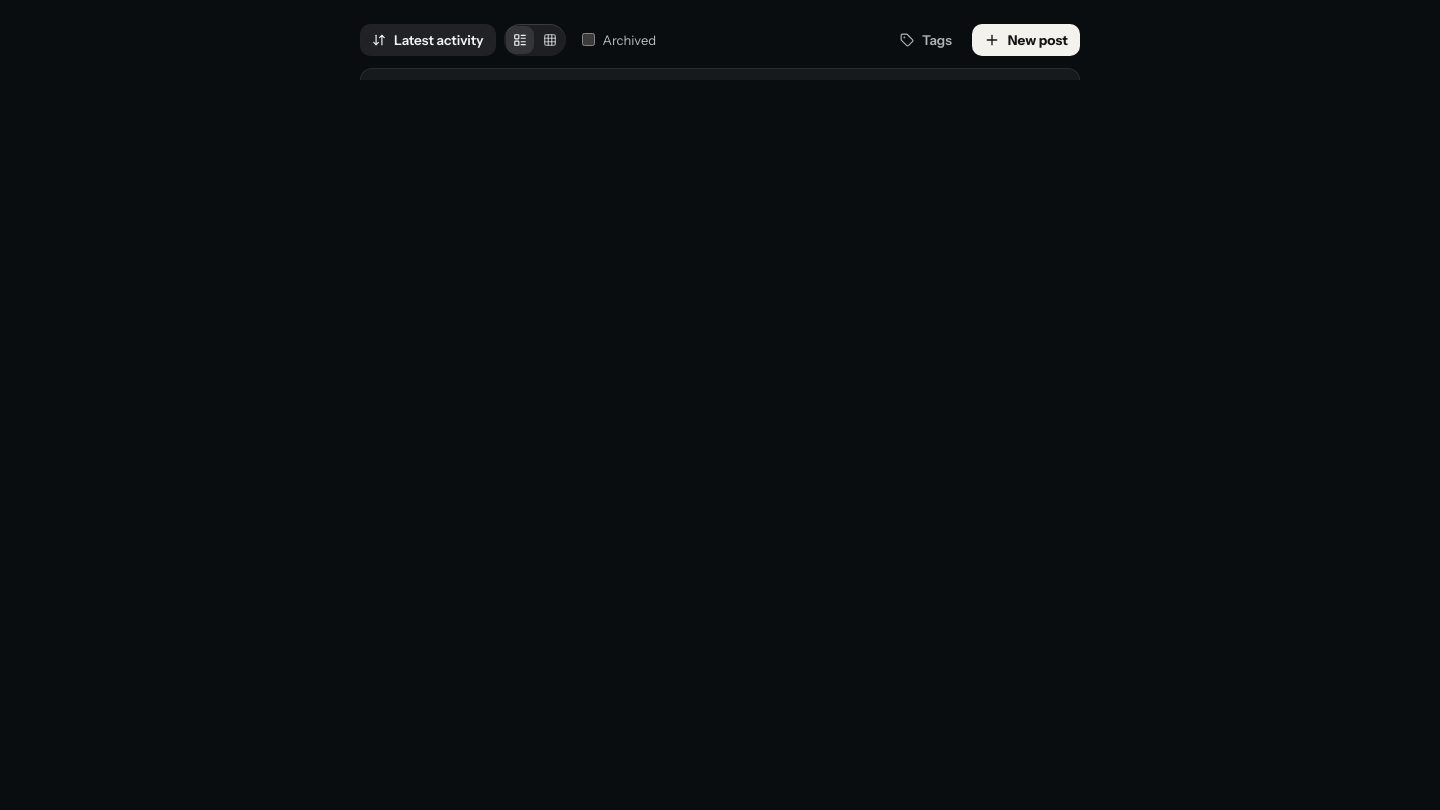
Test: ForumView tag accessibility › gives the opening message the shared markdown formatting controls
Click the button "New post" at (1026, 40), box [972,24,1080,56]
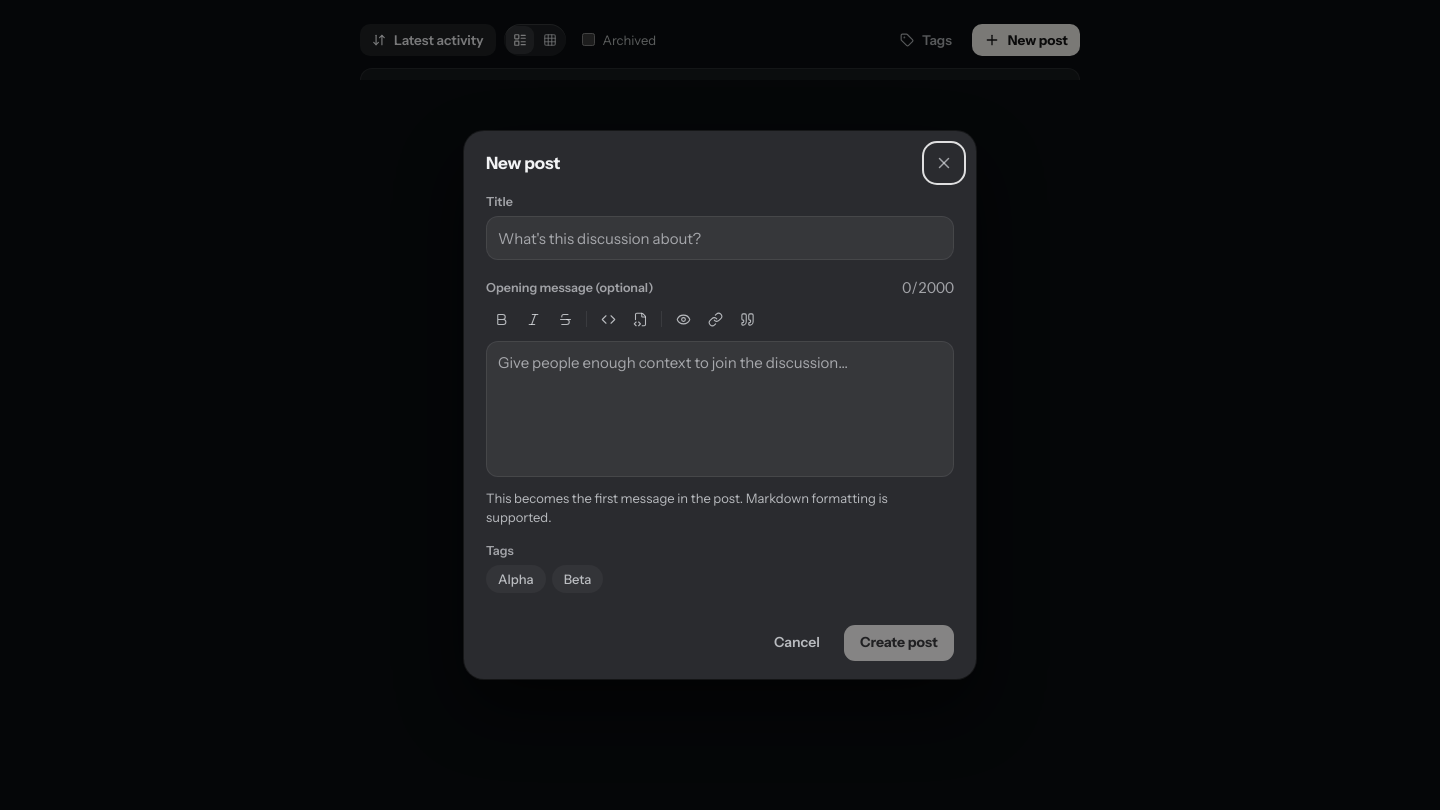
Type "Launch notes" into the text box labelled "Opening message (optional)" at (720, 409), box [486,341,954,477]
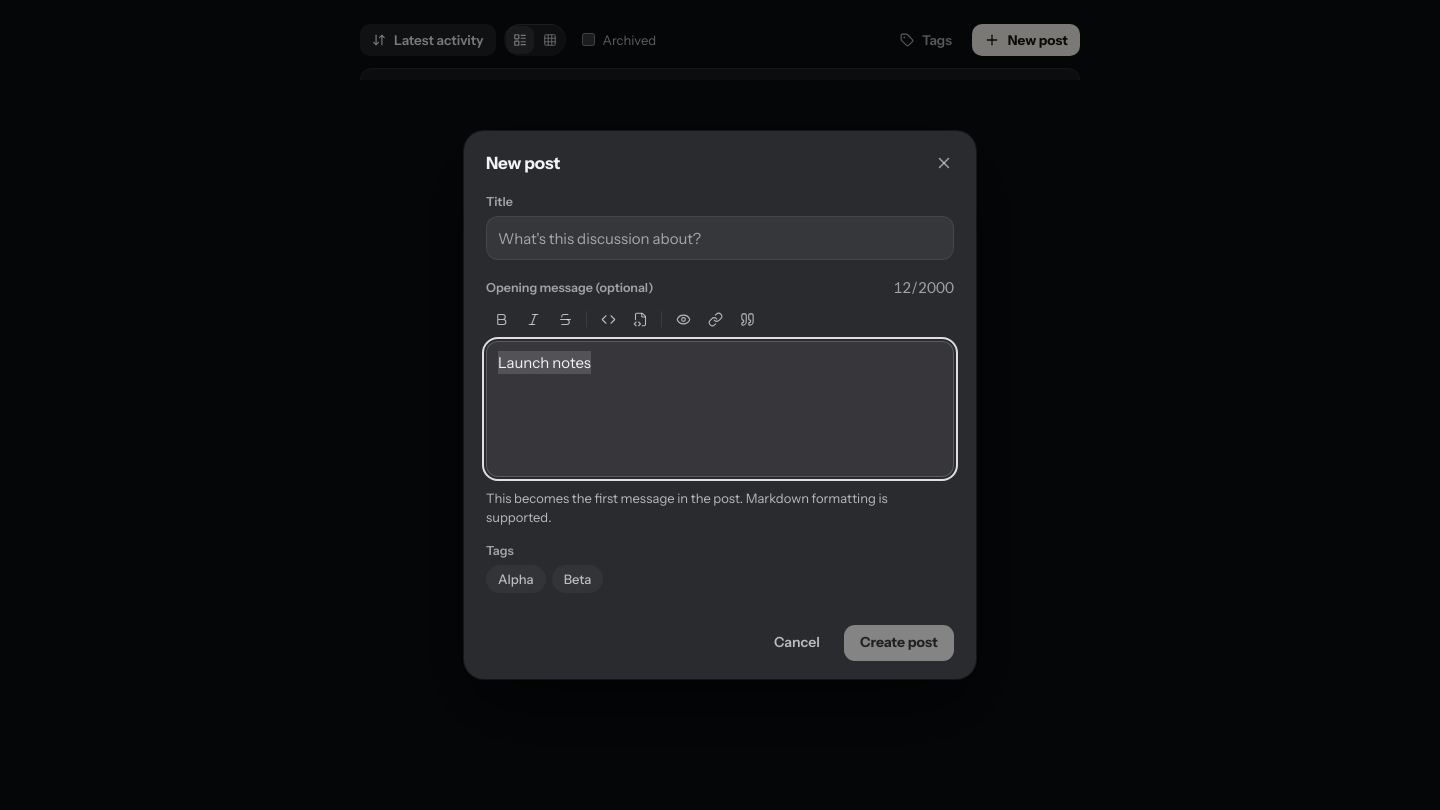
Click the button named "Bold" at (501, 319), box [486,306,516,333]
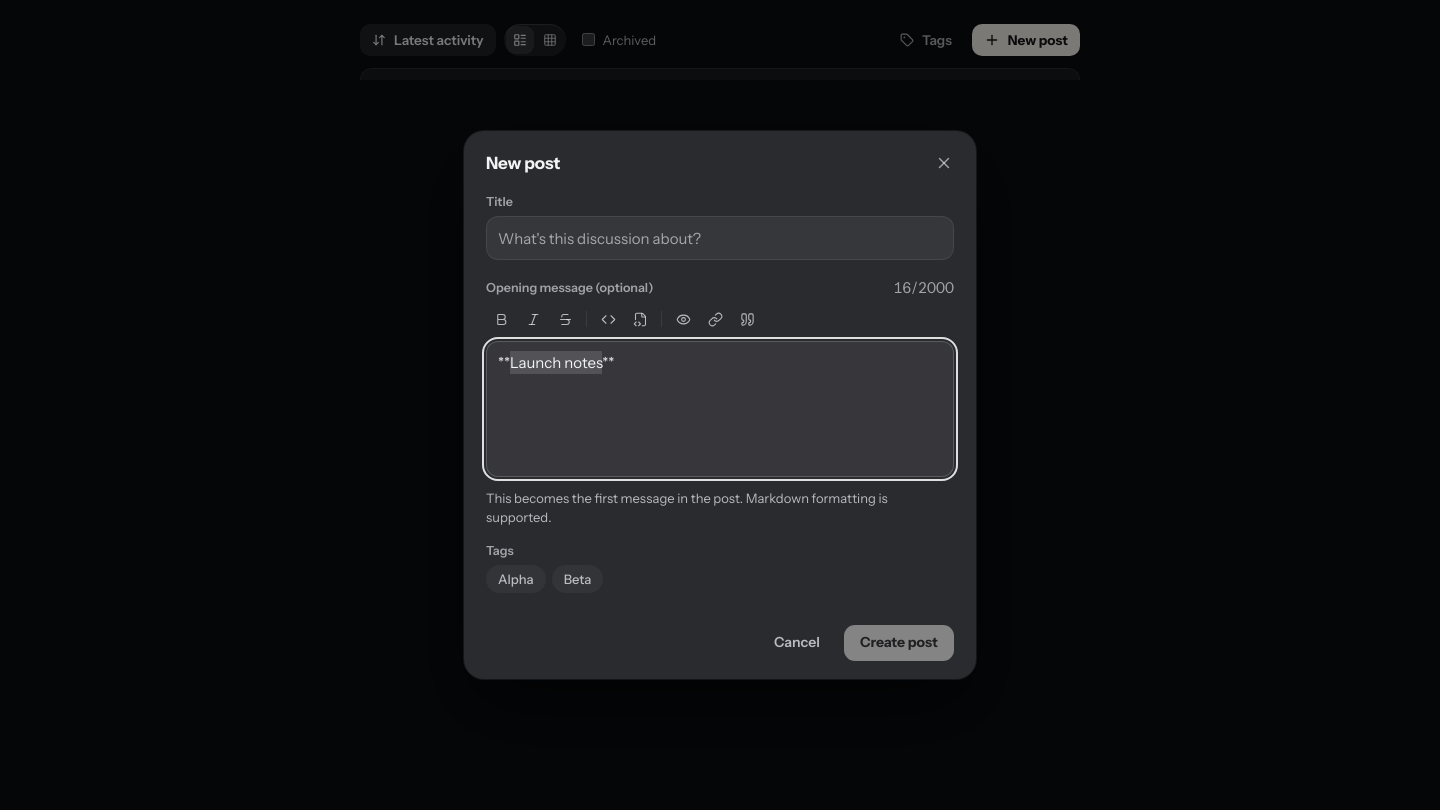
Expected: the text "Markdown formatting is supported" is shown, [486,490,888,525]
Expected: the text box labelled "Opening message (optional)" holds "**Launch notes**", [486,341,954,477]
Expected: the text "16/2000" is shown, [893,276,954,300]
